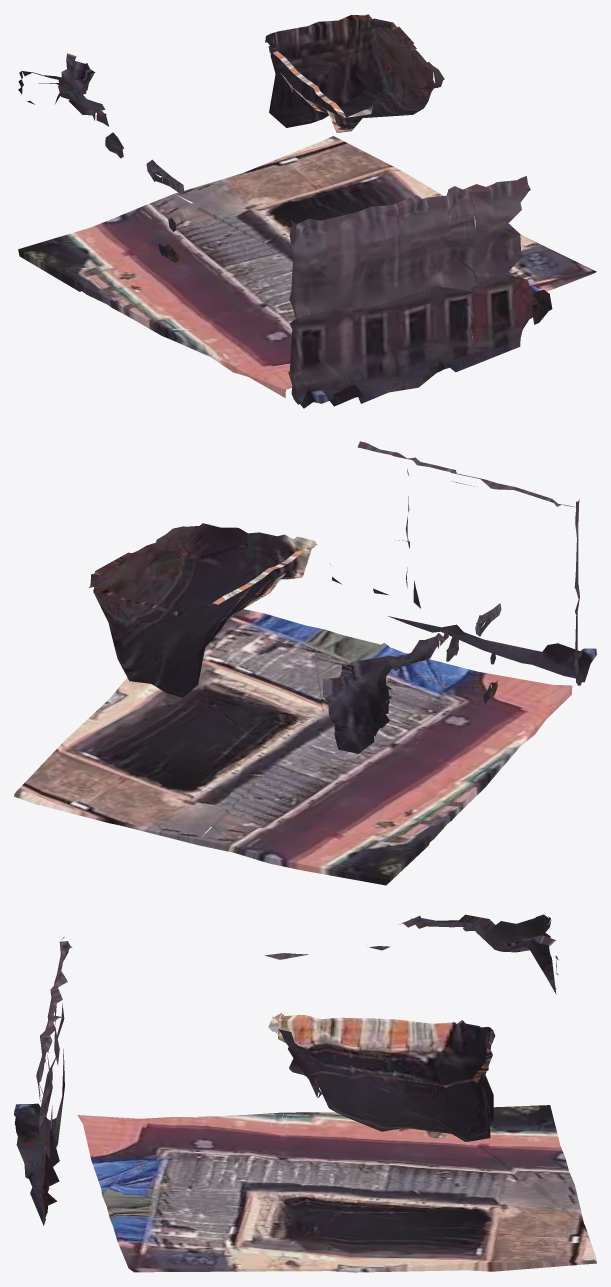
3 renders of one model, top to bottom at view 1: azimuth 30°, elevation 25°; view 2: azimuth 150°, elevation 25°; view 3: azimuth 270°, elevation 25°, orthographic. The views are drawn at different scales.
Parts seen in each view (by area): view 1: Mesh_0; view 2: Mesh_0; view 3: Mesh_0.
Boxes of the visible parts, bbox=[...] form: Mesh_0: bbox=[18, 14, 596, 408]; Mesh_0: bbox=[14, 441, 596, 885]; Mesh_0: bbox=[14, 914, 596, 1272].
Size of the model in its own units: 33.18 by 15.96 by 41.16.
1 material, 1 textured.
